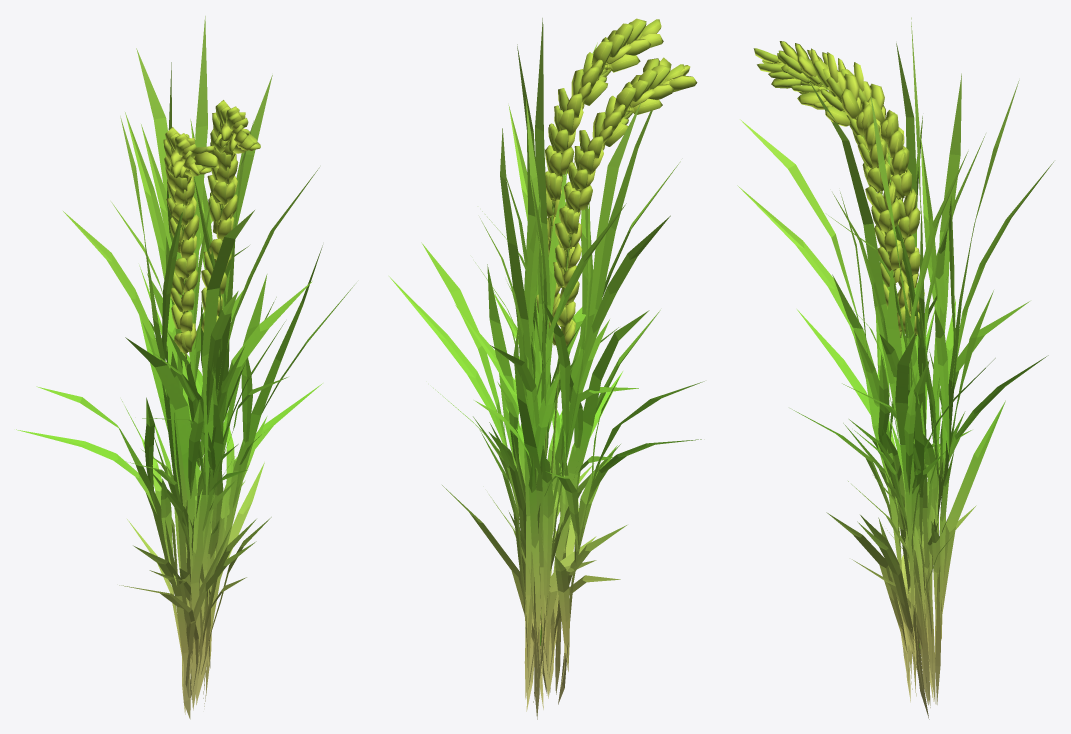
File: Rice9_LOD.fbx
3 renders of one model, left to right at view 1: azimuth 30°, elevation 25°; view 2: azimuth 150°, elevation 25°; view 3: azimuth 270°, elevation 25°, orthographic. The views are drawn at different scales.
Parts seen in each view (by area): view 1: Rice9_LOD0; view 2: Rice9_LOD0; view 3: Rice9_LOD0.
Boxes of the visible parts, <box> form: Rice9_LOD0: <box>16,16,354,719</box>; Rice9_LOD0: <box>389,18,704,719</box>; Rice9_LOD0: <box>737,17,1053,719</box>.
Size of what is drawn, in the model's own units: 315 by 637 by 263.
Materials: 1 (1 with a texture image).
